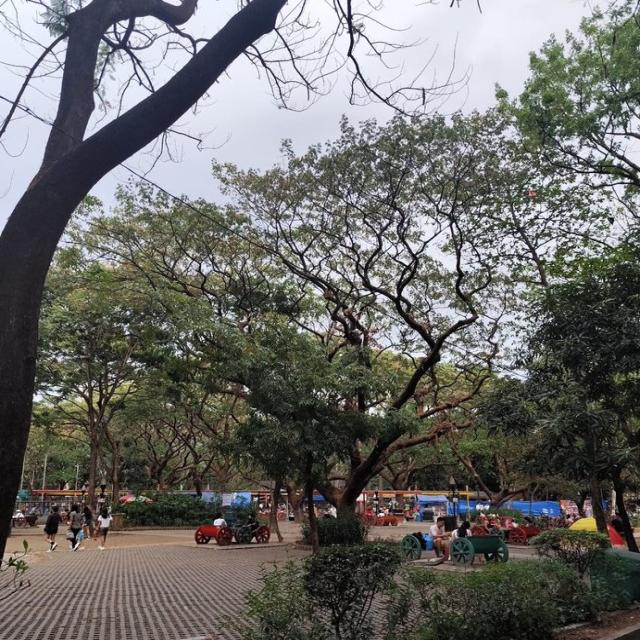Acacia: (119, 123, 563, 506)
